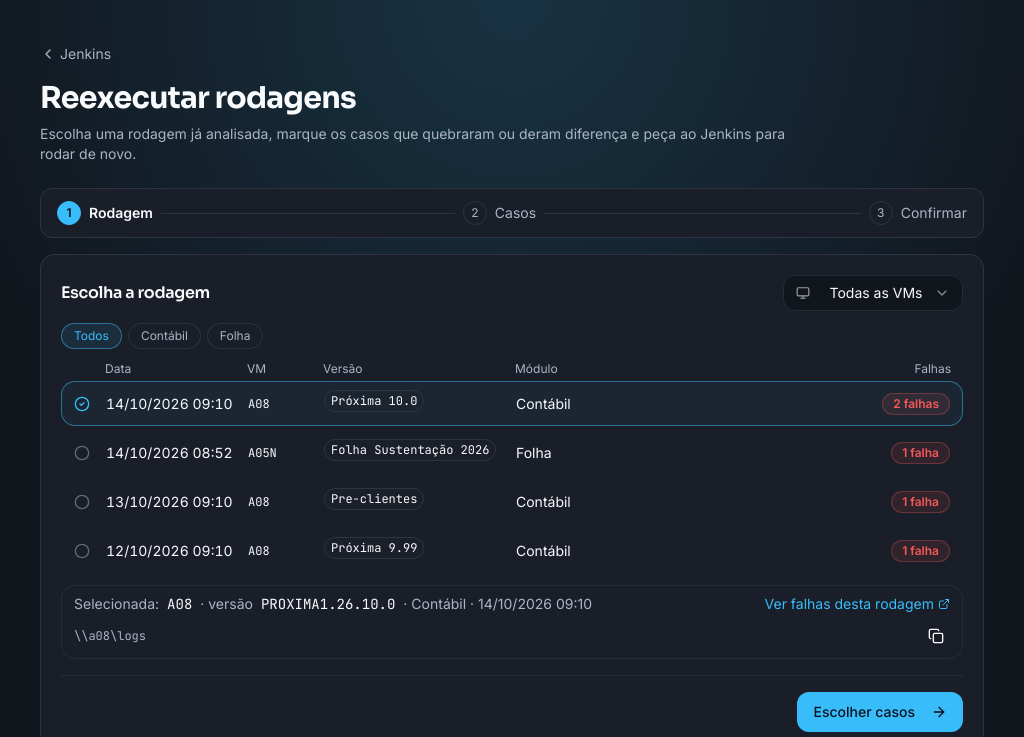
Reexecutar rodagens (etapas) › filtro so por VM (o de versao saiu)
Press ArrowDown in the dropdown named "Filtrar por VM", box [783,275,963,311]
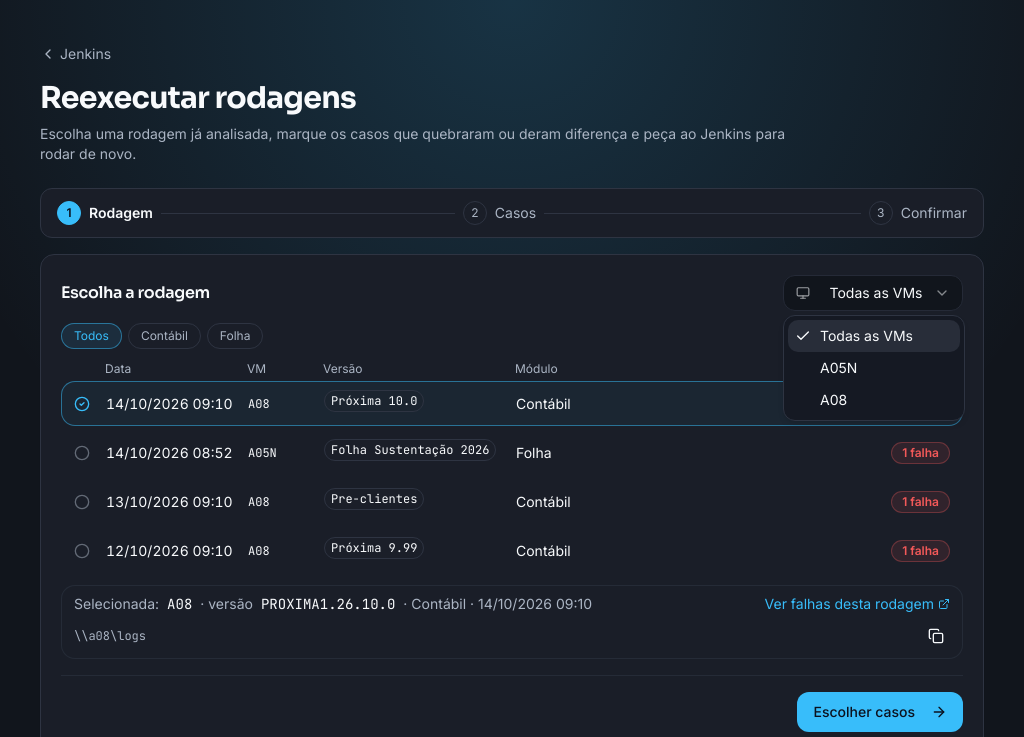
Click the option "A08" at [834, 400], box [820,391,847,408]
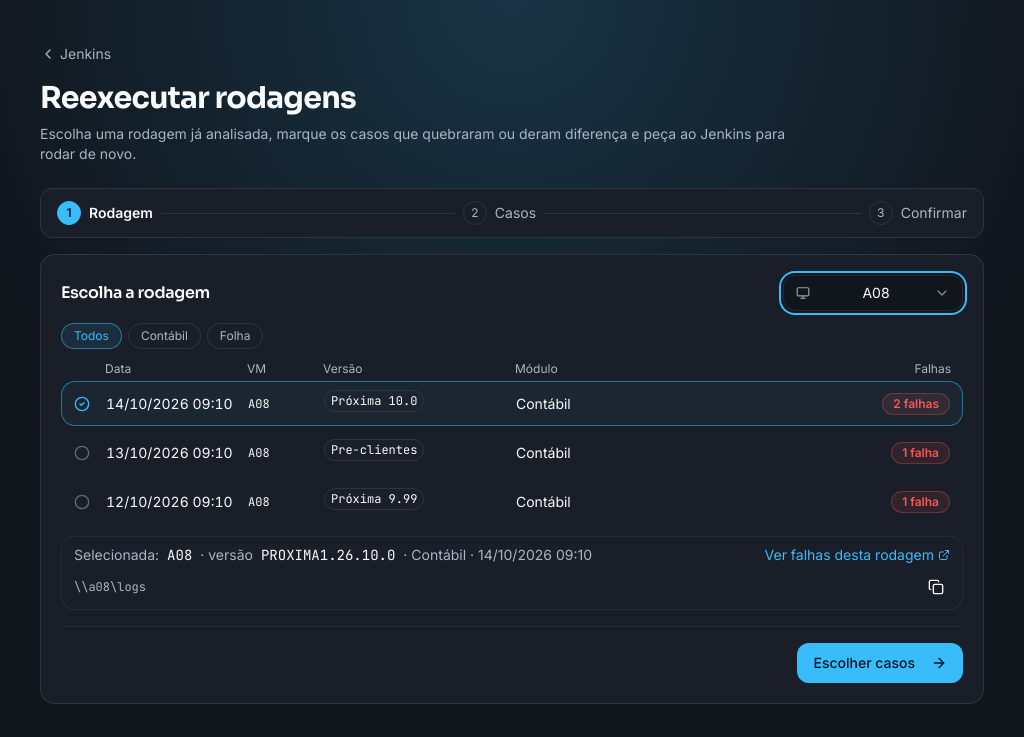
Check: the number of radio buttons is 3, box [61,381,963,426]; [61,430,963,475]; [61,479,963,524]
